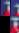potion: (0, 0, 10, 16), (10, 16, 19, 33), (11, 0, 19, 16)
